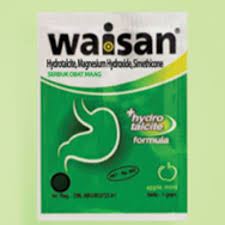Mekocefaclor: (47, 33, 177, 54)
